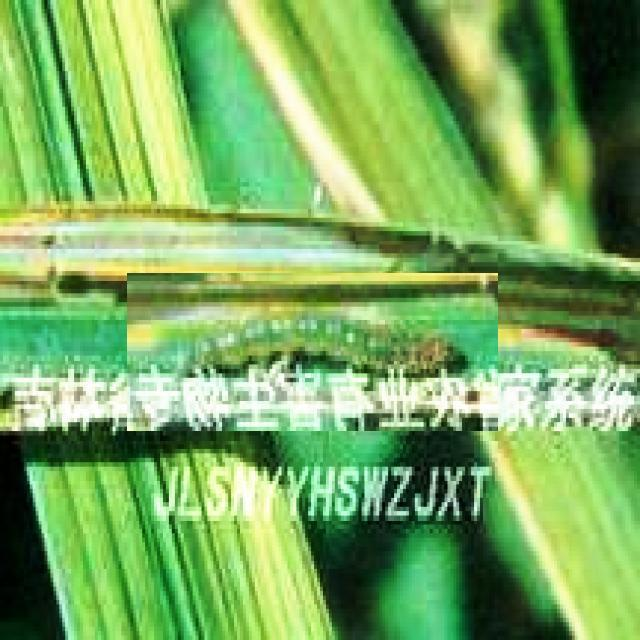leaf-folder: (127, 273, 498, 431)
